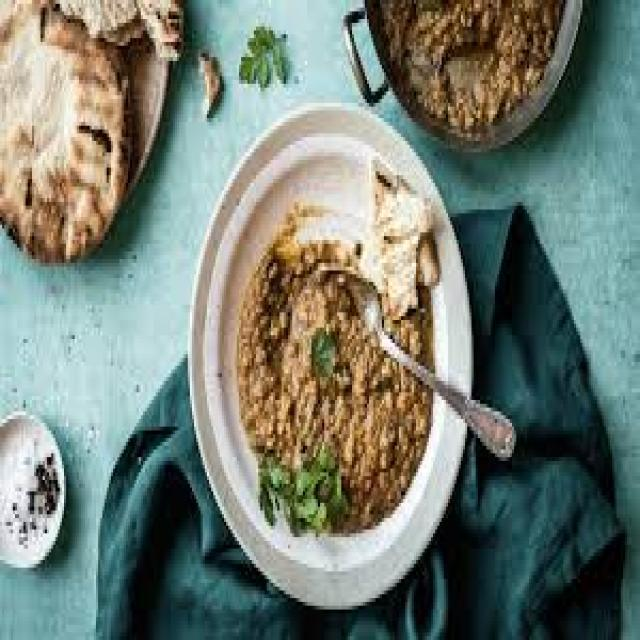roti: (0, 8, 160, 277), (228, 207, 378, 480), (355, 159, 444, 327)
sambar-rasam: (0, 398, 68, 583)
